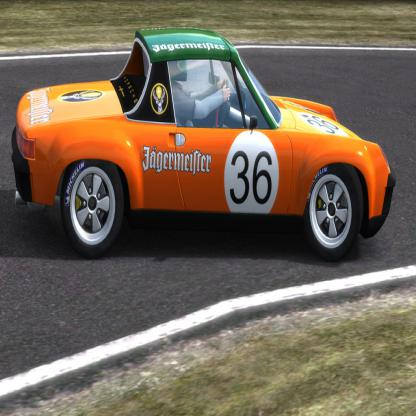Car: (12, 27, 396, 261)
